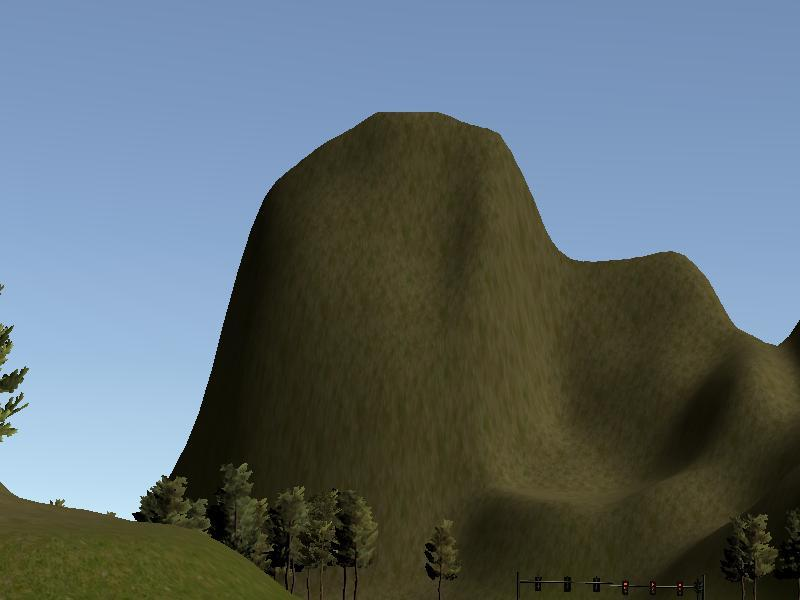Red: (620, 578, 629, 596), (648, 579, 657, 597), (675, 579, 684, 597)
